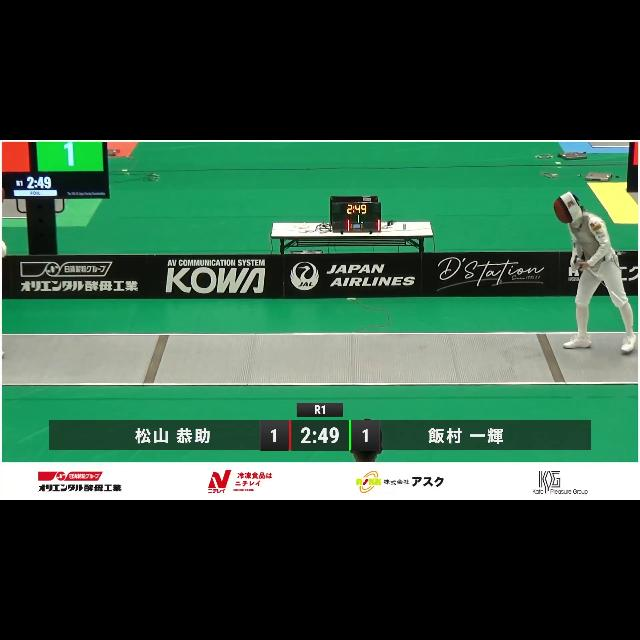blade: (574, 256, 628, 308)
